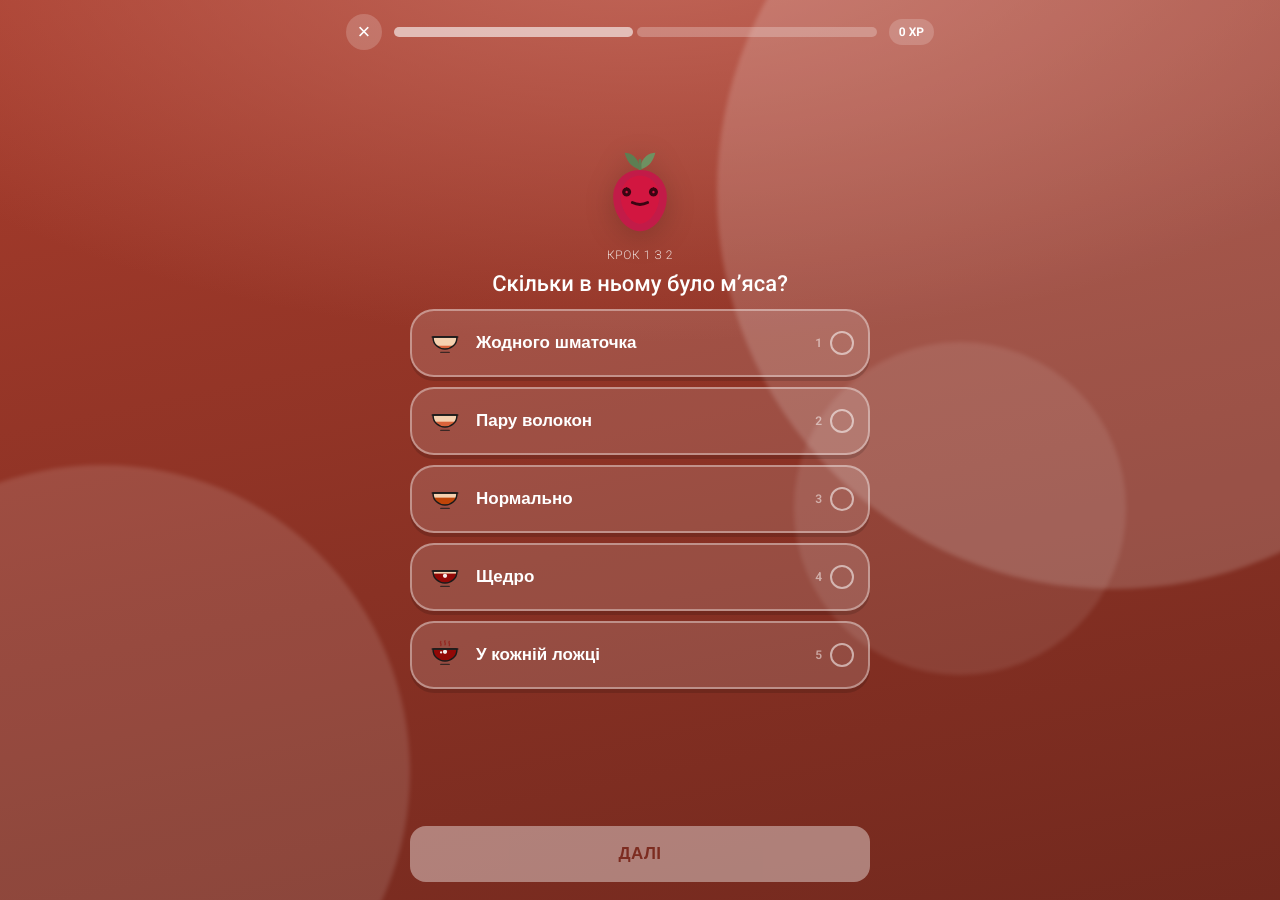
Test: the forward button stays locked until the question is answered
Expected: the heading "Скільки в ньому було мʼяса?" is shown, [492,271,788,297]
Expected: the button "Далі" is disabled, [410,826,870,882]
Click the button "Щедро 4" at (445, 577), box [410,543,870,611]
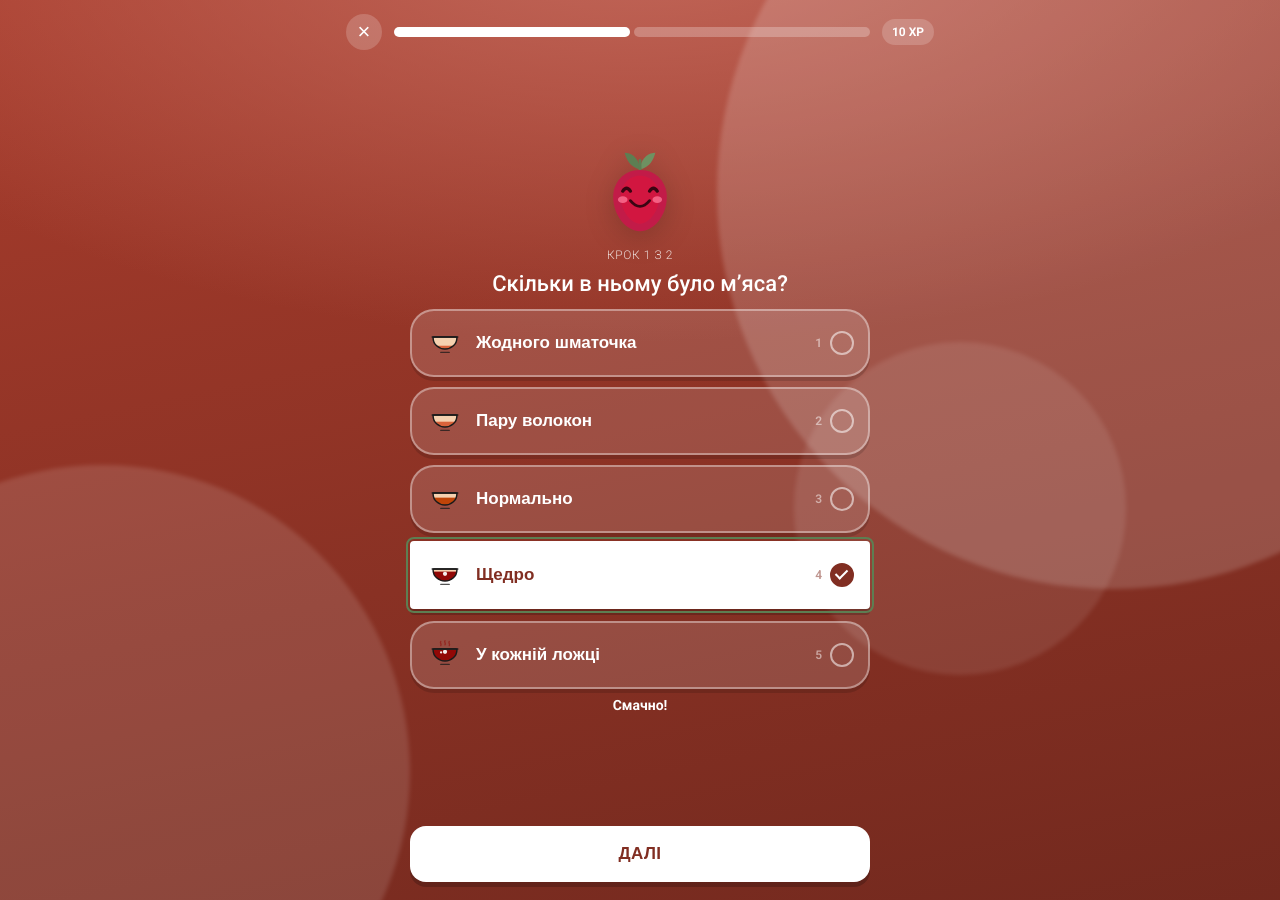
Expected: the button "Далі" is enabled
Expected: the text "Смачно!" is shown, [613,697,667,719]
Click the button "Далі" at (640, 854), box [410,826,870,882]
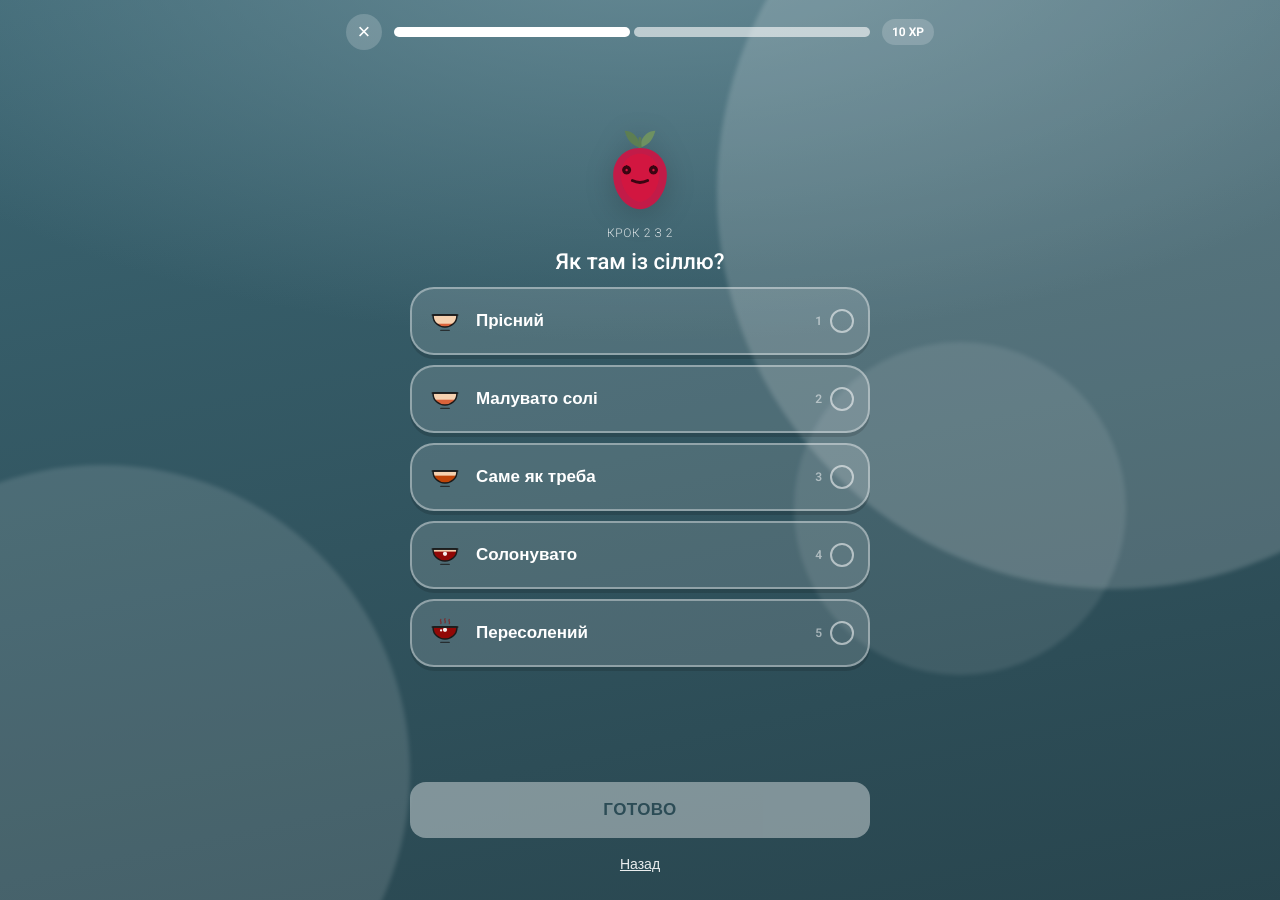
Expected: the heading "Як там із сіллю?" is shown, [556,249,724,275]
